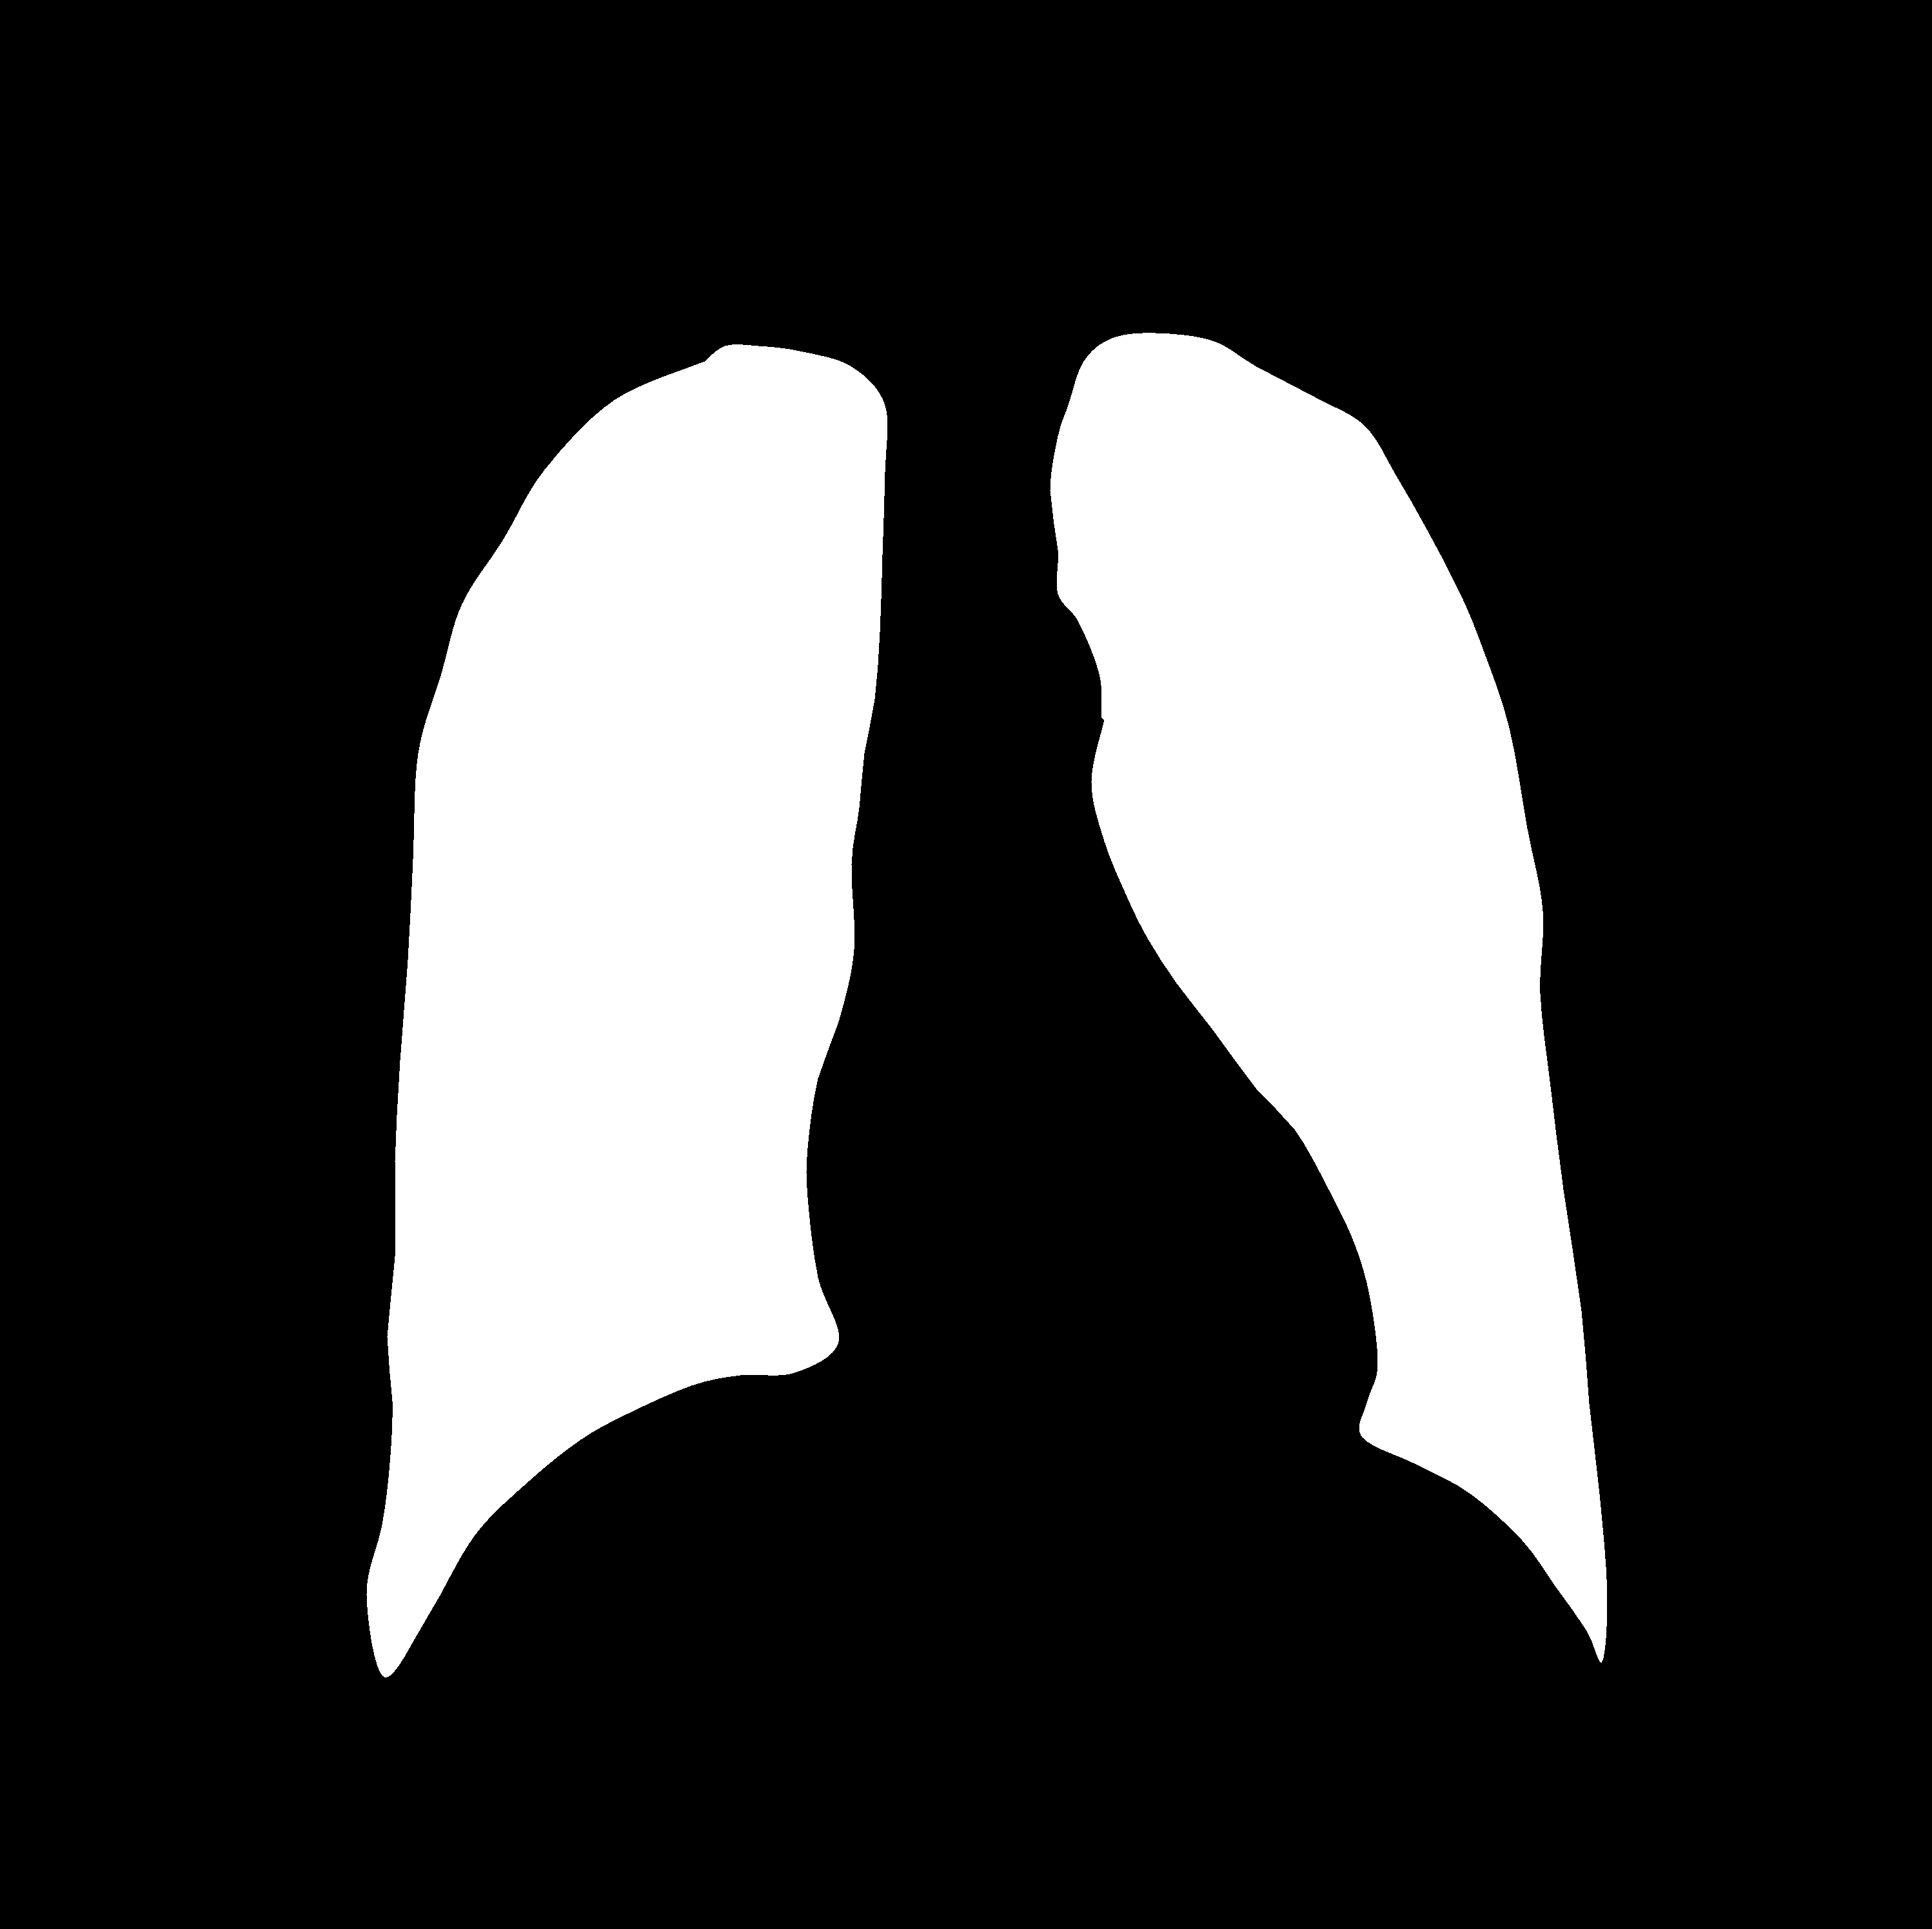heart: (811, 973, 1376, 1461)
left_lung: (364, 344, 887, 1683)
right_lung: (1049, 332, 1619, 1662)
